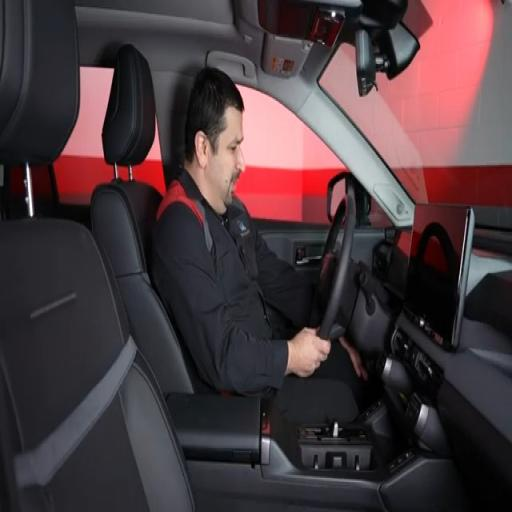side_mirror: (327, 171, 371, 226)
window: (237, 86, 344, 224)
windshield: (320, 0, 511, 207)
